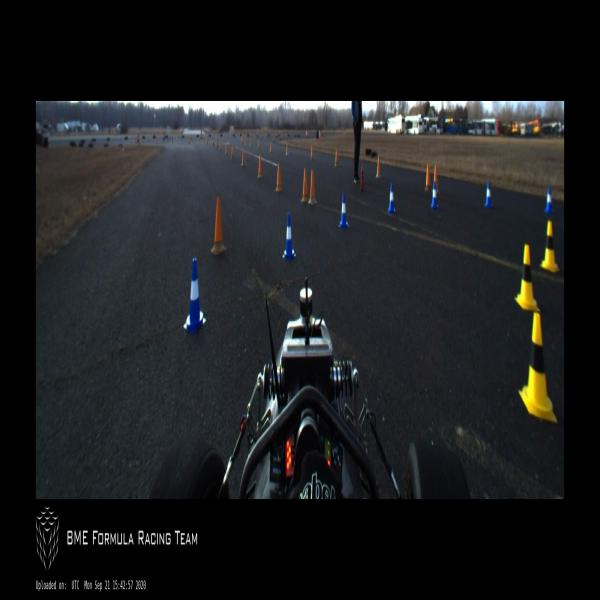blue_cone: (184, 258, 205, 335), (281, 210, 295, 262), (338, 190, 350, 231), (387, 182, 396, 213), (430, 181, 439, 211), (484, 181, 493, 210), (544, 187, 554, 213)
yellow_cone: (519, 313, 558, 423), (515, 242, 539, 312), (541, 218, 560, 274)
